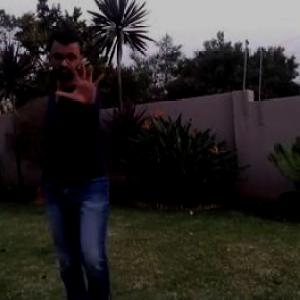follow_hand: (51, 58, 108, 112)
